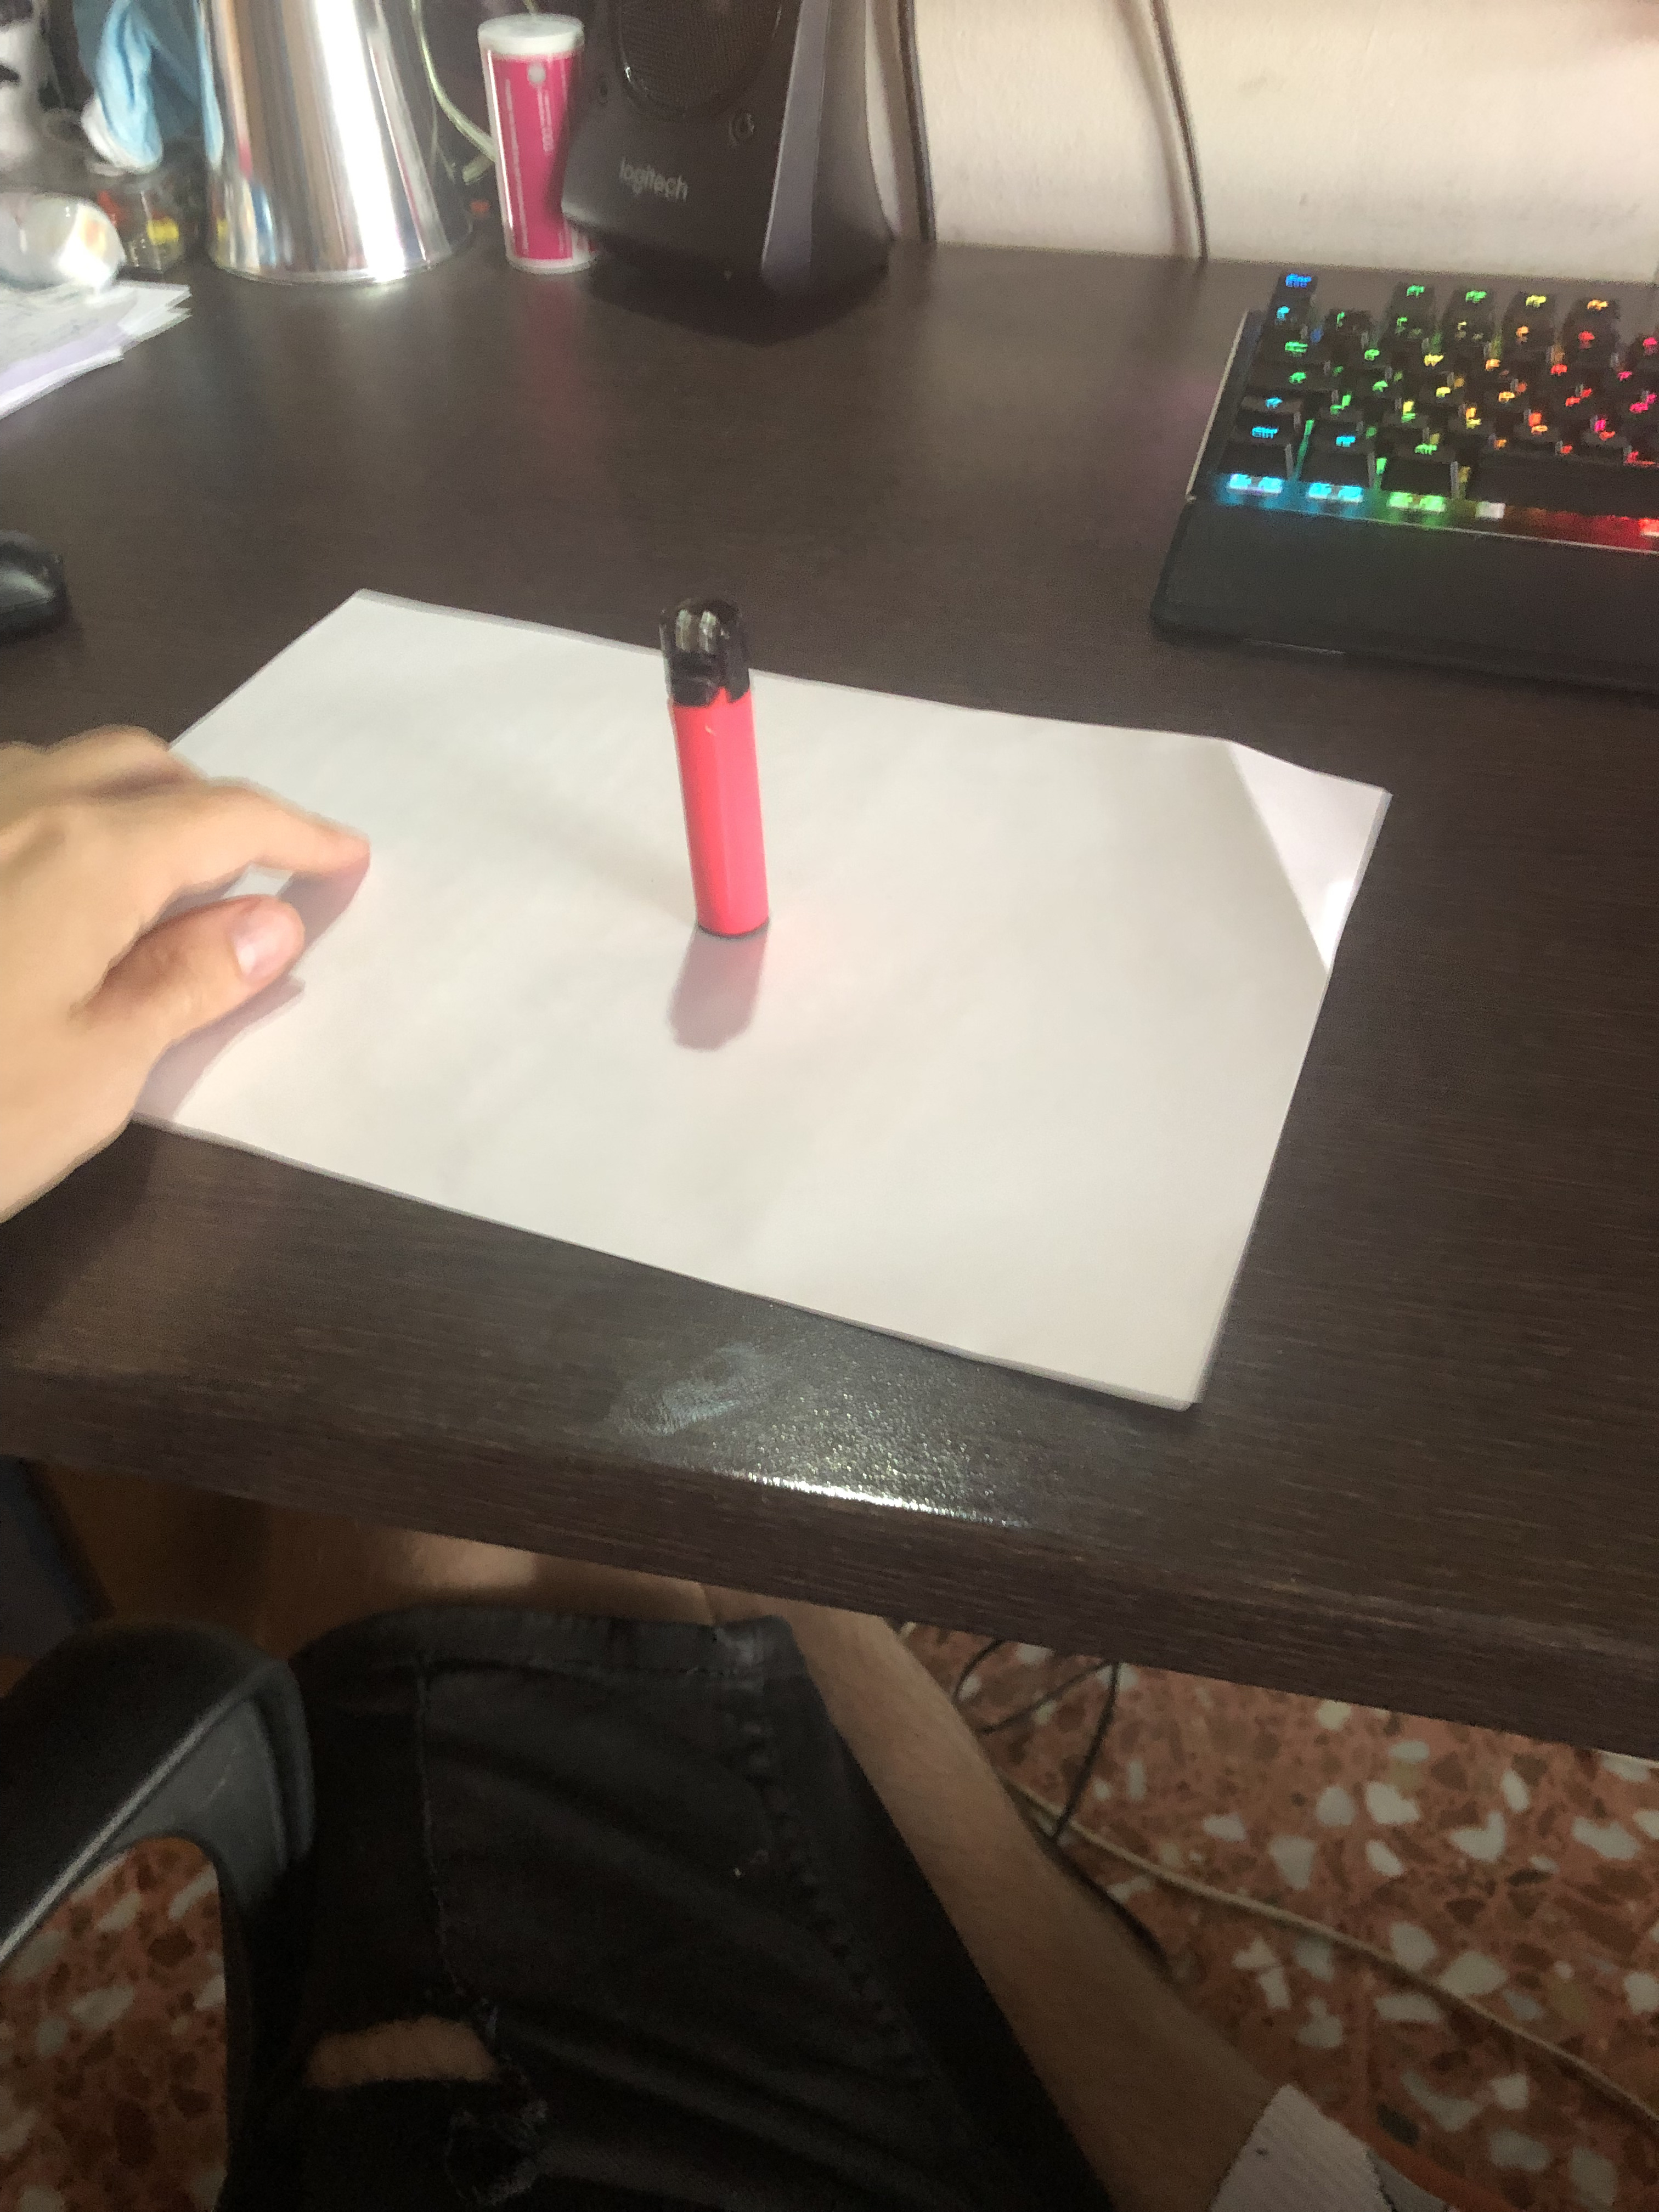Mechero: (624, 589, 793, 967)
